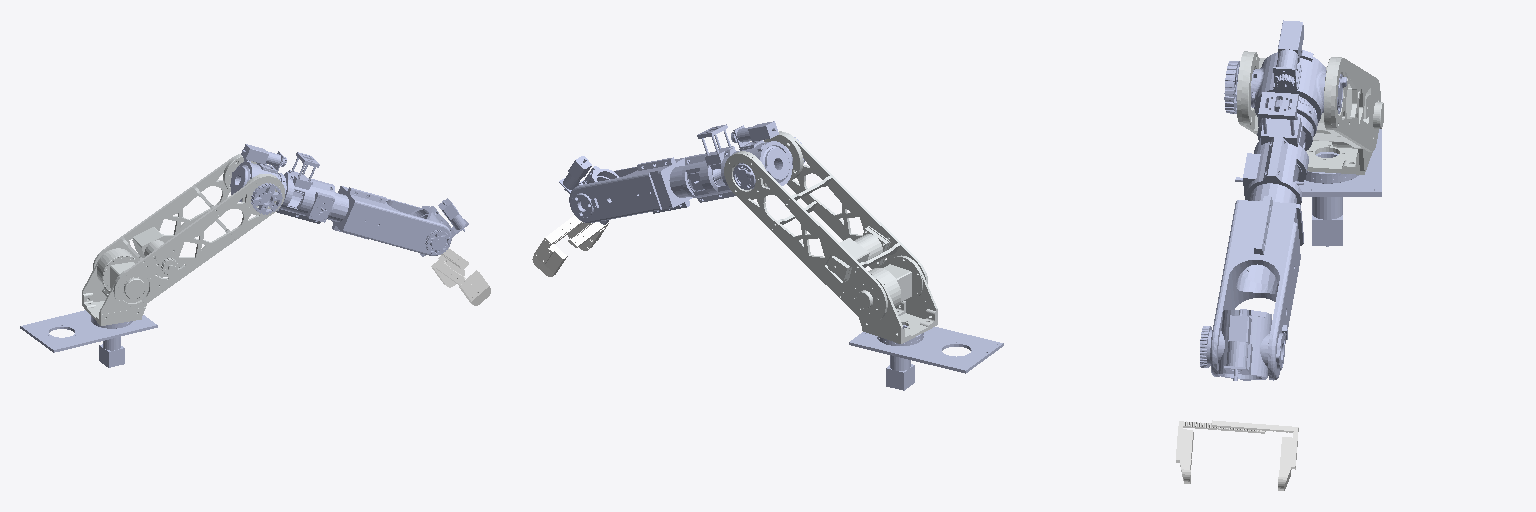
URDF robot description (dev_arm):
<?xml version="1.0" encoding="utf-8"?>
<!-- This URDF was automatically created by SolidWorks to URDF Exporter! Originally created by [author] ([email redacted]) 
     Commit Version: 1.6.0-4-g7f85cfe  Build Version: 1.6.7995.38578
     For more information, please see http://wiki.ros.org/sw_urdf_exporter -->
<robot
  name="dev_arm">
  <link
    name="link_0">
    <inertial>
      <origin
        xyz="-0.75120510490016 -0.355484104743571 0.618102827199024"
        rpy="0 0 0" />
      <mass
        value="0.4817433887173" />
      <inertia
        ixx="0.00155445019167321"
        ixy="-0.00029099824007685"
        ixz="-2.6763455971382E-05"
        iyy="0.0011477531623159"
        iyz="-0.000592201056189933"
        izz="0.00160357951968222" />
    </inertial>
    <visual>
      <origin
        xyz="0 0 0"
        rpy="0 0 0" />
      <geometry>
        <mesh
          filename="package://dev_arm/meshes/link_0.STL" />
      </geometry>
      <material
        name="">
        <color
          rgba="0.792156862745098 0.819607843137255 0.933333333333333 1" />
      </material>
    </visual>
    <collision>
      <origin
        xyz="0 0 0"
        rpy="0 0 0" />
      <geometry>
        <mesh
          filename="package://dev_arm/meshes/link_0.STL" />
      </geometry>
    </collision>
  </link>
  <link
    name="link_1">
    <inertial>
      <origin
        xyz="-0.00592188484098011 0.0497337751763232 0.0151078448271851"
        rpy="0 0 0" />
      <mass
        value="0.737418061435459" />
      <inertia
        ixx="0.000956187811589184"
        ixy="-7.30868092917769E-07"
        ixz="-2.15641775570035E-07"
        iyy="0.000840696198508676"
        iyz="-8.78546697159536E-05"
        izz="0.000683614957200741" />
    </inertial>
    <visual>
      <origin
        xyz="0 0 0"
        rpy="0 0 0" />
      <geometry>
        <mesh
          filename="package://dev_arm/meshes/link_1.STL" />
      </geometry>
      <material
        name="">
        <color
          rgba="0.898039215686275 0.917647058823529 0.929411764705882 1" />
      </material>
    </visual>
    <collision>
      <origin
        xyz="0 0 0"
        rpy="0 0 0" />
      <geometry>
        <mesh
          filename="package://dev_arm/meshes/link_1.STL" />
      </geometry>
    </collision>
  </link>
  <joint
    name="joint_1"
    type="revolute">
    <origin
      xyz="0 0 0.12465"
      rpy="1.5708 0 1.4205" />
    <parent
      link="link_0" />
    <child
      link="link_1" />
    <axis
      xyz="0 1 0" />
    <limit
      lower="-1.5"
      upper="1.5"
      effort="1.5"
      velocity="1.5" />
  </joint>
  <link
    name="link_2">
    <inertial>
      <origin
        xyz="-0.0125551041164427 0.162333307519453 -0.00113689853698418"
        rpy="0 0 0" />
      <mass
        value="1.1795040495345" />
      <inertia
        ixx="0.0114021403656591"
        ixy="4.91835295849996E-06"
        ixz="9.60387948633441E-07"
        iyy="0.00146839098604676"
        iyz="7.53762054156451E-06"
        izz="0.011076242151304" />
    </inertial>
    <visual>
      <origin
        xyz="0 0 0"
        rpy="0 0 0" />
      <geometry>
        <mesh
          filename="package://dev_arm/meshes/link_2.STL" />
      </geometry>
      <material
        name="">
        <color
          rgba="0.898039215686275 0.917647058823529 0.929411764705882 1" />
      </material>
    </visual>
    <collision>
      <origin
        xyz="0 0 0"
        rpy="0 0 0" />
      <geometry>
        <mesh
          filename="package://dev_arm/meshes/link_2.STL" />
      </geometry>
    </collision>
  </link>
  <joint
    name="joint_2"
    type="revolute">
    <origin
      xyz="0 0.08135 0.030252"
      rpy="1.0581 0 0" />
    <parent
      link="link_1" />
    <child
      link="link_2" />
    <axis
      xyz="1 0 0" />
    <limit
      lower="-1.9"
      upper="1"
      effort="1.5"
      velocity="1.5" />
  </joint>
  <link
    name="link_3">
    <inertial>
      <origin
        xyz="-0.0127385611944387 0.00592816139817404 0.00294922331579783"
        rpy="0 0 0" />
      <mass
        value="0.336367887901212" />
      <inertia
        ixx="0.000445713692687987"
        ixy="-2.92307769476942E-05"
        ixz="-2.75743220153081E-07"
        iyy="0.000413955901160469"
        iyz="-3.15427872765313E-07"
        izz="0.000183819323414228" />
    </inertial>
    <visual>
      <origin
        xyz="0 0 0"
        rpy="0 0 0" />
      <geometry>
        <mesh
          filename="package://dev_arm/meshes/link_3.STL" />
      </geometry>
      <material
        name="">
        <color
          rgba="0.792156862745098 0.819607843137255 0.933333333333333 1" />
      </material>
    </visual>
    <collision>
      <origin
        xyz="0 0 0"
        rpy="0 0 0" />
      <geometry>
        <mesh
          filename="package://dev_arm/meshes/link_3.STL" />
      </geometry>
    </collision>
  </link>
  <joint
    name="joint_3"
    type="revolute">
    <origin
      xyz="0 0.36 0"
      rpy="1.5708 -1.1559 -1.5708" />
    <parent
      link="link_2" />
    <child
      link="link_3" />
    <axis
      xyz="0 0 1" />
    <limit
      lower="-1.5"
      upper="1.5"
      effort="1.5"
      velocity="5.0" />
  </joint>
  <link
    name="link_4">
    <inertial>
      <origin
        xyz="0.00166296026114598 0.218106492725881 -0.00116203993278863"
        rpy="0 0 0" />
      <mass
        value="1.36761528996947" />
      <inertia
        ixx="0.00641148072698608"
        ixy="1.83066051979753E-05"
        ixz="-1.10257427220716E-06"
        iyy="0.00122289884254461"
        iyz="9.92574822825847E-07"
        izz="0.0069873823992583" />
    </inertial>
    <visual>
      <origin
        xyz="0 0 0"
        rpy="0 0 0" />
      <geometry>
        <mesh
          filename="package://dev_arm/meshes/link_4.STL" />
      </geometry>
      <material
        name="">
        <color
          rgba="0.792156862745098 0.819607843137255 0.933333333333333 1" />
      </material>
    </visual>
    <collision>
      <origin
        xyz="0 0 0"
        rpy="0 0 0" />
      <geometry>
        <mesh
          filename="package://dev_arm/meshes/link_4.STL" />
      </geometry>
    </collision>
  </link>
  <joint
    name="joint_4"
    type="revolute">
    <origin
      xyz="0 0 -0.00268"
      rpy="-3.1416 -0.0026575 2.618" />
    <parent
      link="link_3" />
    <child
      link="link_4" />
    <axis
      xyz="0 1 0" />
    <limit
      lower="-1.5"
      upper="1.5"
      effort="1.5"
      velocity="1.5" />
  </joint>
  <link
    name="link_5">
    <inertial>
      <origin
        xyz="0.00247756032029234 0.0144792175385886 -0.00303407921683196"
        rpy="0 0 0" />
      <mass
        value="0.266164660581102" />
      <inertia
        ixx="0.000140805739440821"
        ixy="6.3389211890881E-06"
        ixz="-5.45477939486458E-07"
        iyy="0.000157270337306261"
        iyz="-1.05768526795131E-07"
        izz="0.000231895437914874" />
    </inertial>
    <visual>
      <origin
        xyz="0 0 0"
        rpy="0 0 0" />
      <geometry>
        <mesh
          filename="package://dev_arm/meshes/link_5.STL" />
      </geometry>
      <material
        name="">
        <color
          rgba="0.792156862745098 0.819607843137255 0.933333333333333 1" />
      </material>
    </visual>
    <collision>
      <origin
        xyz="0 0 0"
        rpy="0 0 0" />
      <geometry>
        <mesh
          filename="package://dev_arm/meshes/link_5.STL" />
      </geometry>
    </collision>
  </link>
  <joint
    name="joint_5"
    type="revolute">
    <origin
      xyz="0 0.46645 0"
      rpy="0 0 -0.98314" />
    <parent
      link="link_4" />
    <child
      link="link_5" />
    <axis
      xyz="0 0 1" />
    <limit
      lower="-2"
      upper="1.05"
      effort="1.5"
      velocity="1.5" />
  </joint>
  <link
    name="link_6">
    <inertial>
      <origin
        xyz="0.000496988885798855 0.000369268064153938 0.0805664772847964"
        rpy="0 0 0" />
      <mass
        value="0.227443456027437" />
      <inertia
        ixx="0.000204998883005082"
        ixy="9.44014732720639E-07"
        ixz="2.79960652479252E-07"
        iyy="0.000192500325400873"
        iyz="9.67404555176741E-07"
        izz="0.000155221932612525" />
    </inertial>
    <visual>
      <origin
        xyz="0 0 0"
        rpy="0 0 0" />
      <geometry>
        <mesh
          filename="package://dev_arm/meshes/link_6.STL" />
      </geometry>
      <material
        name="">
        <color
          rgba="0.792156862745098 0.819607843137255 0.933333333333333 1" />
      </material>
    </visual>
    <collision>
      <origin
        xyz="0 0 0"
        rpy="0 0 0" />
      <geometry>
        <mesh
          filename="package://dev_arm/meshes/link_6.STL" />
      </geometry>
    </collision>
  </link>
  <joint
    name="joint_6"
    type="revolute">
    <origin
      xyz="0.02374 0 0"
      rpy="1.5708 -1.3798 -1.5708" />
    <parent
      link="link_5" />
    <child
      link="link_6" />
    <axis
      xyz="0 0 1" />
    <limit
      lower="-10"
      upper="10"
      effort="1.5"
      velocity="2.5" />
  </joint>
  <link name="link_tt">
  </link>
  <joint 
    name="joint_tt"
    type="fixed">
    <origin
      xyz="0 0 0.2"
      rpy="-1.5708 3.14159 0" />
    <parent
      link="link_6" />
    <child
      link="link_tt" />
  </joint>
  <link
    name="link_ee">
    <inertial>
      <origin
        xyz="0.0276192450431113 0.0756553935925989 -0.0141746324340222"
        rpy="0 0 0" />
      <mass
        value="0.231445210703695" />
      <inertia
        ixx="0.000130773613084568"
        ixy="-3.20850426457177E-07"
        ixz="-1.15708906918202E-12"
        iyy="8.25332385710549E-05"
        iyz="5.41792091672912E-12"
        izz="0.000113568263194462" />
    </inertial>
    <visual>
      <origin
        xyz="0 0 0"
        rpy="0 0 0" />
      <geometry>
        <mesh
          filename="package://dev_arm/meshes/link_ee.STL" />
      </geometry>
      <material
        name="">
        <color
          rgba="1 1 1 1" />
      </material>
    </visual>
    <collision>
      <origin
        xyz="0 0 0"
        rpy="0 0 0" />
      <geometry>
        <mesh
          filename="package://dev_arm/meshes/link_ee.STL" />
      </geometry>
    </collision>
  </link>
  <joint
    name="joint_ee"
    type="fixed">
    <origin
      xyz="-0.073337 -0.033291 0.14226"
      rpy="-3.1416 0 1.6469" />
    <parent
      link="link_6" />
    <child
      link="link_ee" />
    <axis
      xyz="0.55075 -0.063574 -0.83224" />
  </joint>
</robot>

--- Render facts (derived) ---
Views: 3 orthographic renders of the robot side by side, from view 1: azimuth 30°, elevation 25°; view 2: azimuth 150°, elevation 25°; view 3: azimuth 270°, elevation 25°.
Robot: dev_arm — 9 links, 8 joints (6 revolute, 2 fixed); root link link_0; default pose: all joints at 0.
Visible links, largest first — view 1: link_2, link_4, link_1, link_0, link_3, link_ee, link_5; view 2: link_2, link_4, link_1, link_0, link_ee, link_3, link_5; view 3: link_4, link_2, link_3, link_5, link_0, link_ee, link_1.
Boxes of the visible links, <box> form: link_2: <box>93,154,284,309</box>; link_4: <box>230,152,451,255</box>; link_1: <box>82,248,148,325</box>; link_0: <box>20,310,157,367</box>; link_3: <box>231,144,283,214</box>; link_ee: <box>431,248,490,305</box>; link_5: <box>410,198,468,256</box>; link_2: <box>724,131,927,321</box>; link_4: <box>569,124,789,222</box>; link_1: <box>856,255,937,343</box>; link_0: <box>849,325,1003,390</box>; link_ee: <box>532,215,608,276</box>; link_3: <box>733,121,804,189</box>; link_5: <box>559,156,618,224</box>; link_4: <box>1210,74,1317,380</box>; link_2: <box>1237,51,1380,151</box>; link_3: <box>1224,20,1346,122</box>; link_5: <box>1200,309,1284,380</box>; link_0: <box>1299,129,1381,246</box>; link_ee: <box>1176,420,1298,490</box>; link_1: <box>1306,102,1383,174</box>.
Size in the robot's own frame: 1.08 by 0.2842 by 0.4906 metres.
7 mesh visuals loaded from 8 distinct referenced files (7 binary STL); not drawn: 1 (reference not matched to a file when rendering).